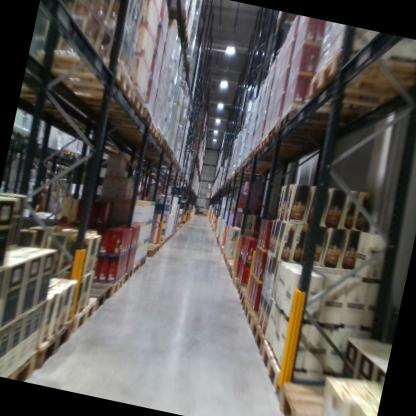pallet: (299, 39, 416, 127), (31, 36, 141, 103), (57, 73, 153, 125), (277, 369, 377, 416), (278, 94, 362, 146), (79, 100, 161, 137), (264, 121, 334, 161), (28, 314, 73, 375), (252, 334, 294, 398), (259, 133, 330, 166), (99, 114, 167, 145), (58, 291, 98, 340), (0, 341, 43, 381), (78, 277, 113, 316), (252, 139, 303, 165), (245, 315, 272, 359), (103, 272, 124, 301), (239, 301, 258, 331), (140, 97, 158, 127), (231, 279, 251, 301), (236, 288, 253, 313), (117, 265, 134, 287), (143, 240, 160, 253), (226, 263, 239, 280), (141, 243, 157, 255), (225, 257, 237, 272), (229, 270, 240, 286), (135, 254, 147, 268), (130, 259, 141, 274)
